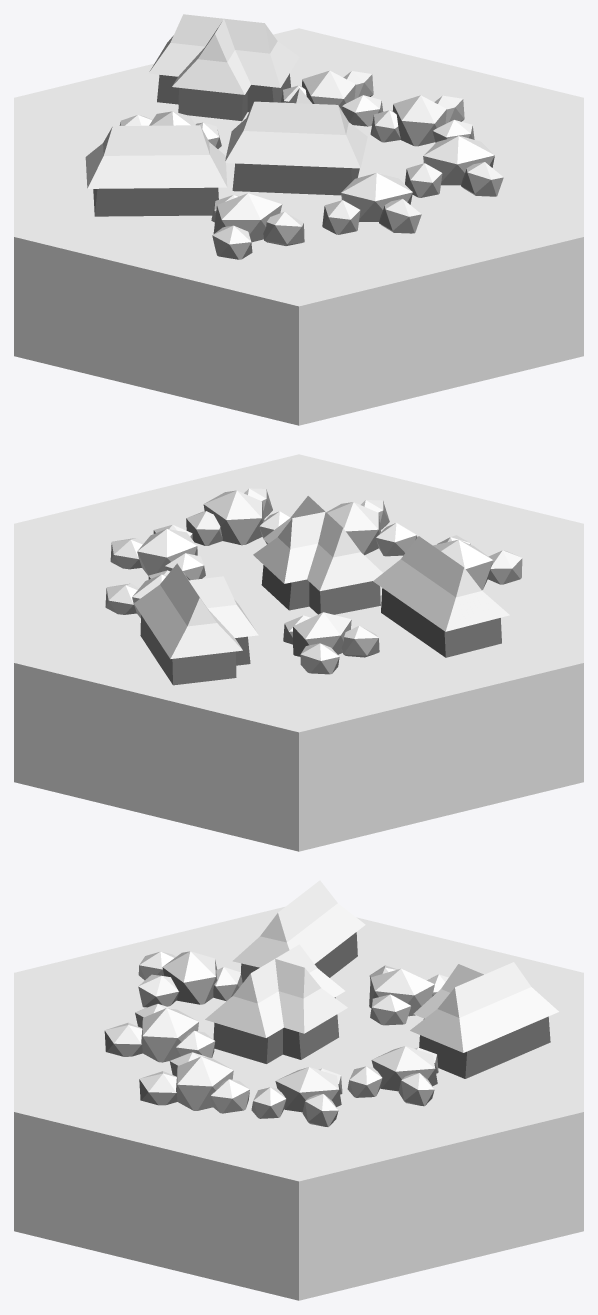
File: Casas_Rocoso_Nieve_3.fbx
3 views of the same model, one above another, from view 1: azimuth 30°, elevation 25°; view 2: azimuth 150°, elevation 25°; view 3: azimuth 270°, elevation 25° (orthographic).
Visible parts, largest first — view 1: Casas_Rocoso_Nieve_3; view 2: Casas_Rocoso_Nieve_3; view 3: Casas_Rocoso_Nieve_3.
Part boxes in pixels (bbox=[...]): Casas_Rocoso_Nieve_3: bbox=[14, 14, 583, 425]; Casas_Rocoso_Nieve_3: bbox=[14, 454, 583, 851]; Casas_Rocoso_Nieve_3: bbox=[14, 880, 583, 1300].
Size of the model in its own units: 200 by 65.63 by 173.
